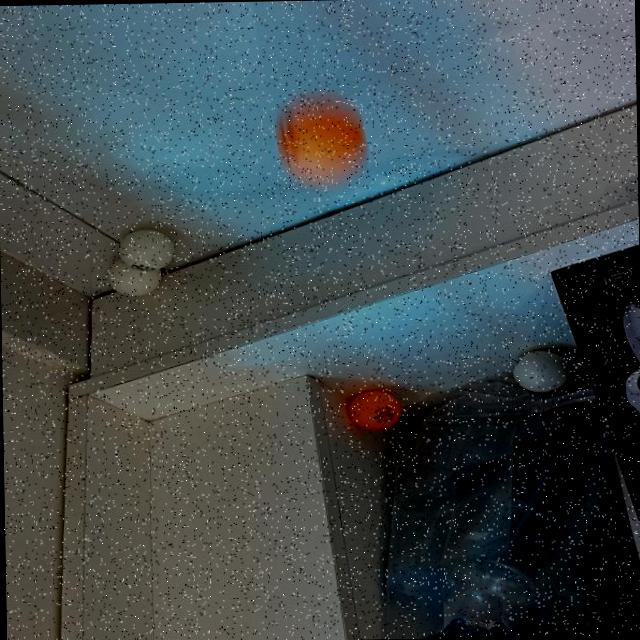ping-pong-ball: (276, 96, 362, 184), (116, 226, 172, 272), (512, 348, 568, 391), (106, 252, 160, 296), (347, 387, 400, 431)
